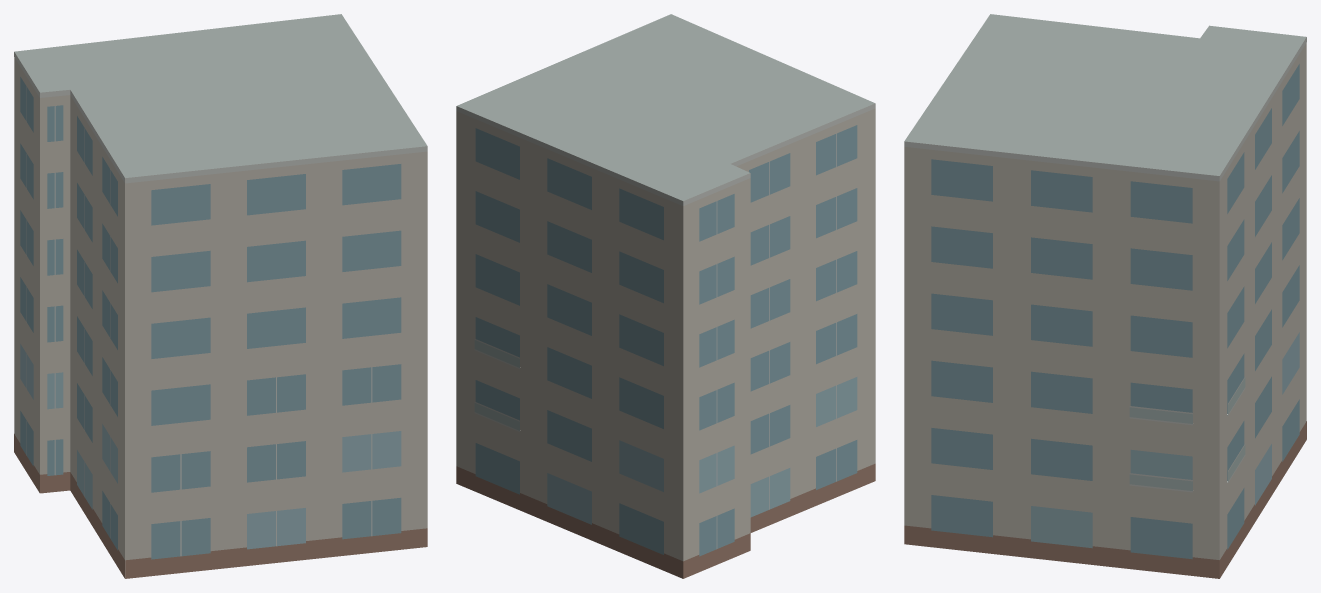
File: survey-upis-33030084.glb
3 views of the same model, side by side, from view 1: azimuth 30°, elevation 25°; view 2: azimuth 150°, elevation 25°; view 3: azimuth 270°, elevation 25° (orthographic). The views are drawn at different scales.
Visible parts, largest first — view 1: survey-upis-33030084.tmp; view 2: survey-upis-33030084.tmp; view 3: survey-upis-33030084.tmp.
Part boxes in pixels (x1,y1,x2,y2): survey-upis-33030084.tmp: (14,14,427,578); survey-upis-33030084.tmp: (456,14,875,578); survey-upis-33030084.tmp: (904,14,1306,578).
Bounding box in the file's own units: 15.89 × 18.4 × 16.68.
